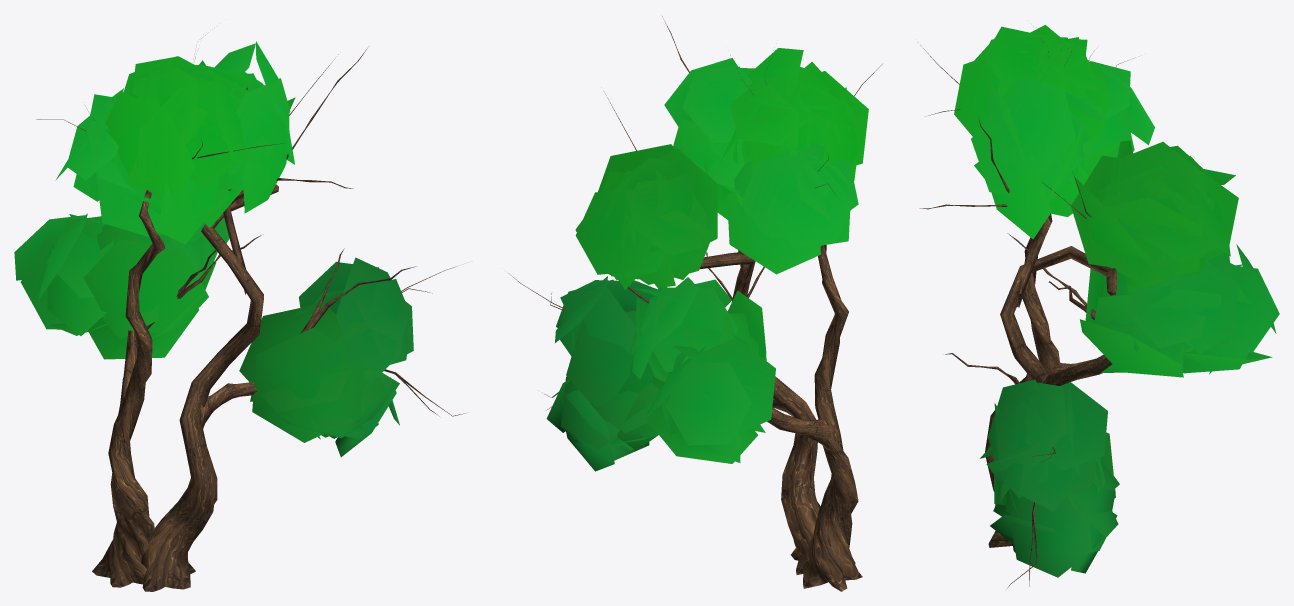
File: FantasyTree2.fbx
3 renders of one model, left to right at view 1: azimuth 30°, elevation 25°; view 2: azimuth 150°, elevation 25°; view 3: azimuth 270°, elevation 25°, orthographic. The views are drawn at different scales.
Visible parts, largest first — view 1: fantasyleaf3_alpha_1, tree2_0; view 2: fantasyleaf3_alpha_1, tree2_0; view 3: fantasyleaf3_alpha_1, tree2_0.
Part boxes in pixels (bbox=[...]): fantasyleaf3_alpha_1: bbox=[14, 41, 413, 457]; tree2_0: bbox=[36, 35, 466, 591]; fantasyleaf3_alpha_1: bbox=[546, 48, 868, 471]; tree2_0: bbox=[508, 16, 882, 591]; fantasyleaf3_alpha_1: bbox=[954, 25, 1279, 577]; tree2_0: bbox=[918, 42, 1135, 588].
Size of the model in its own units: 387 by 492 by 297.
1 material, 1 textured.
